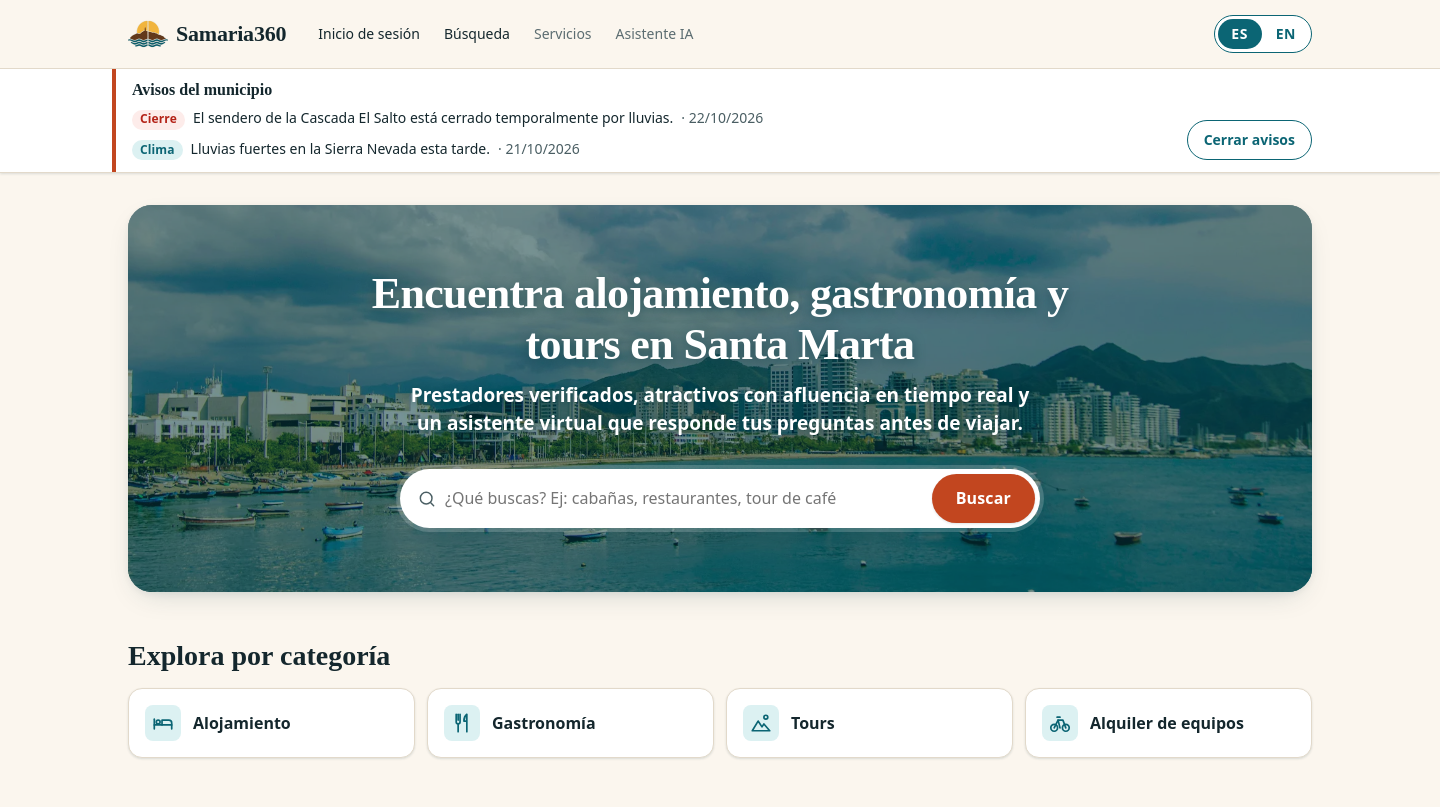
Test: Banner de avisos del municipio (RF40, WF-14; DEC-67, DEC-72) › muestra todos los activos, del más reciente al más antiguo, con su tipo traducido y su fecha
What coordinates should you click on to do the following:
click the button with aria-label "Inglés"
I would click on:
 (1286, 34)
Its box is [1264,19,1308,49].
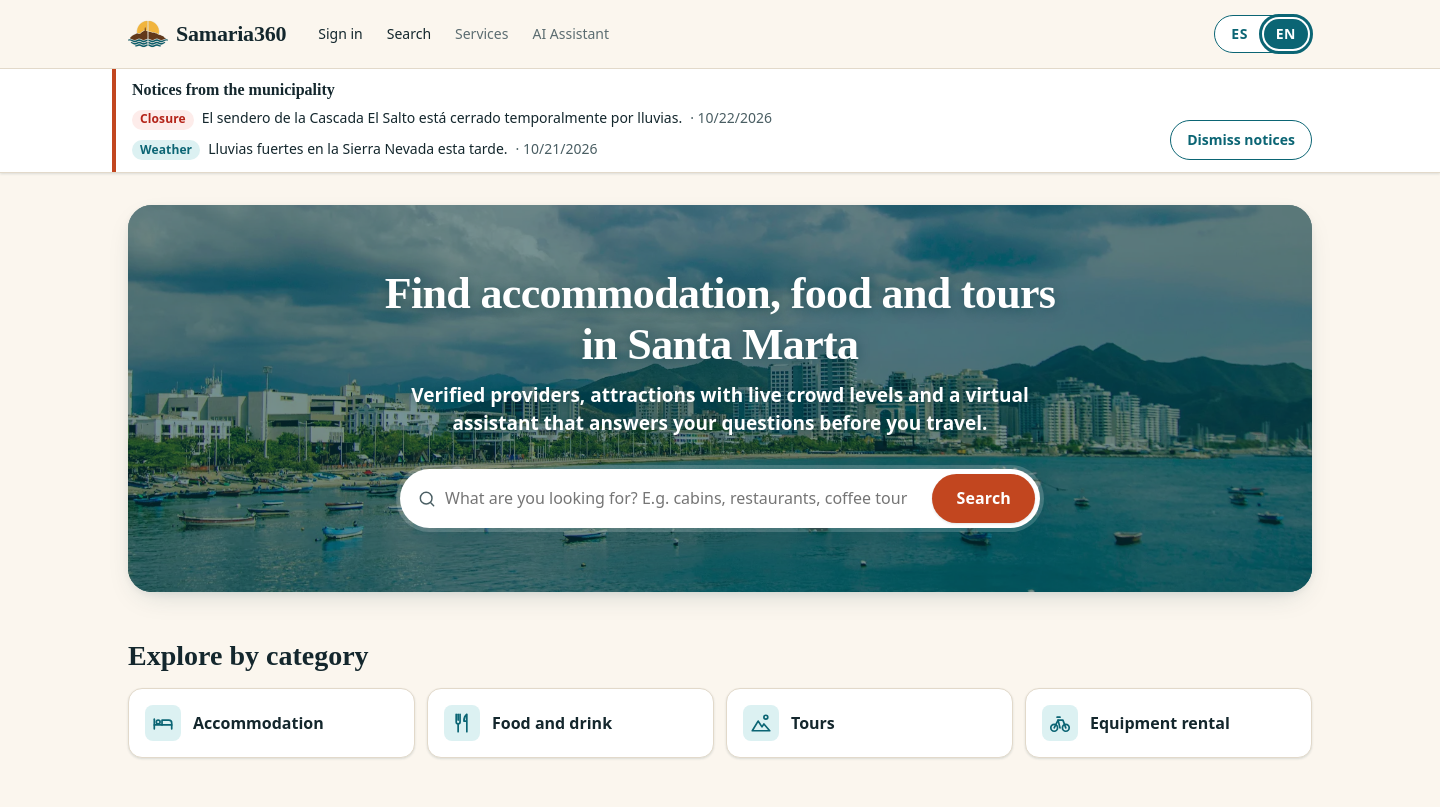
Expected: the text "Closure" is shown, [132,110,194,130]
Expected: the text "Weather" is shown, [132,140,200,160]
Expected: the button "Dismiss notices" is shown, [1170,120,1312,160]
